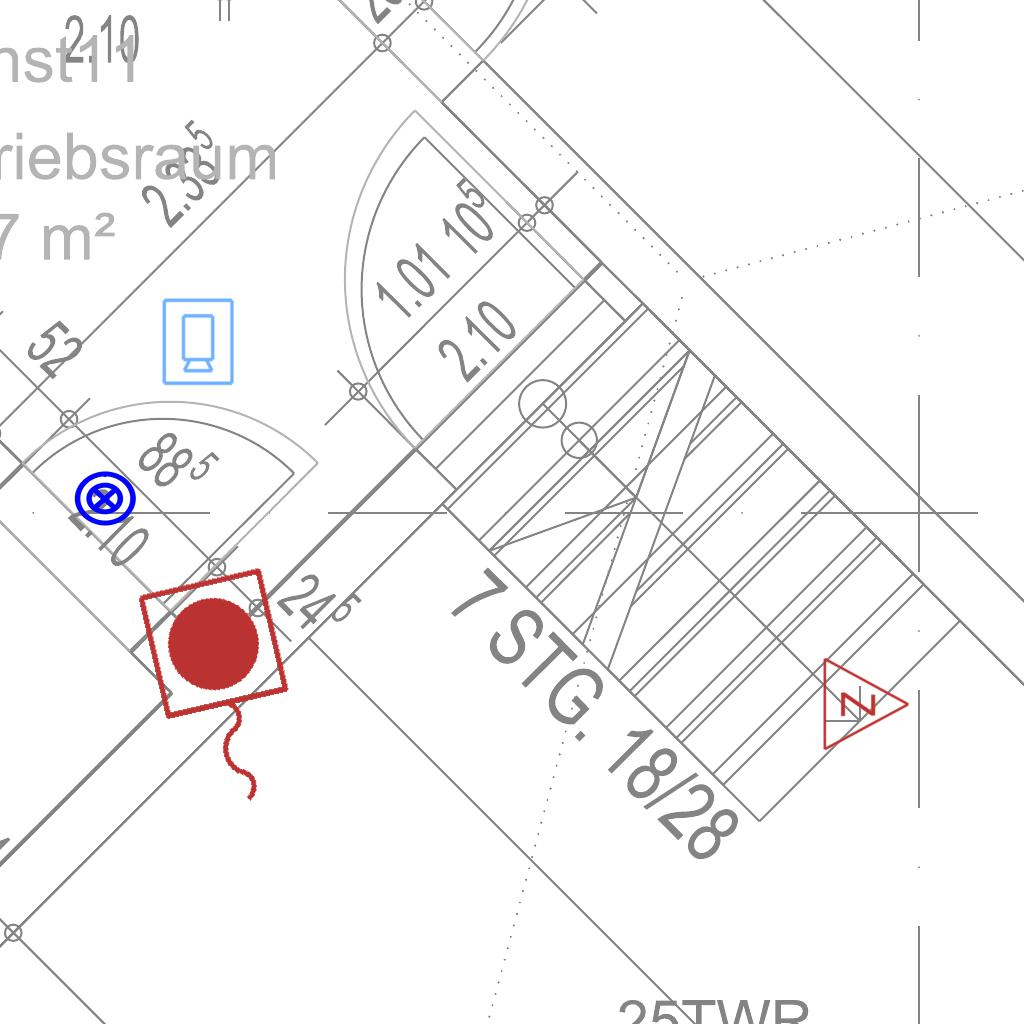KFO_Kamera_mit_Festobjektiv: (159, 296, 236, 387)
Taster_beleuchtet: (72, 466, 138, 532)
Zimmersignalleuchte: (816, 654, 916, 752)
Zugtaster: (125, 557, 321, 829)
